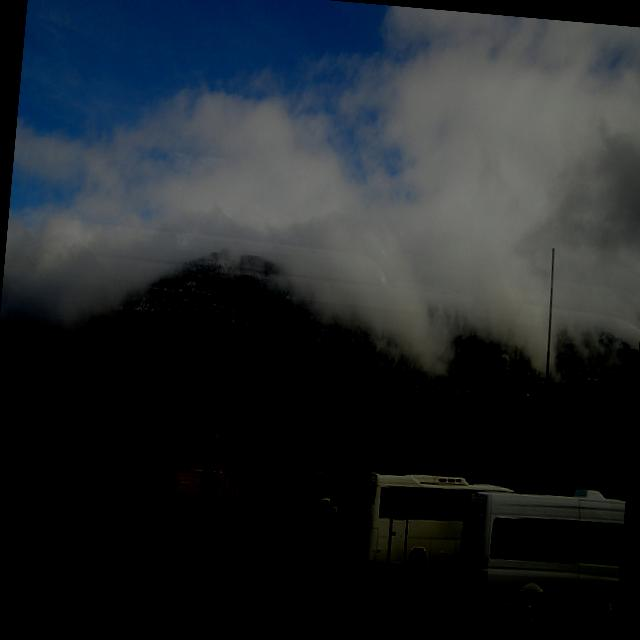Vehicle: (450, 471, 626, 640), (356, 468, 516, 587), (173, 468, 241, 512)
